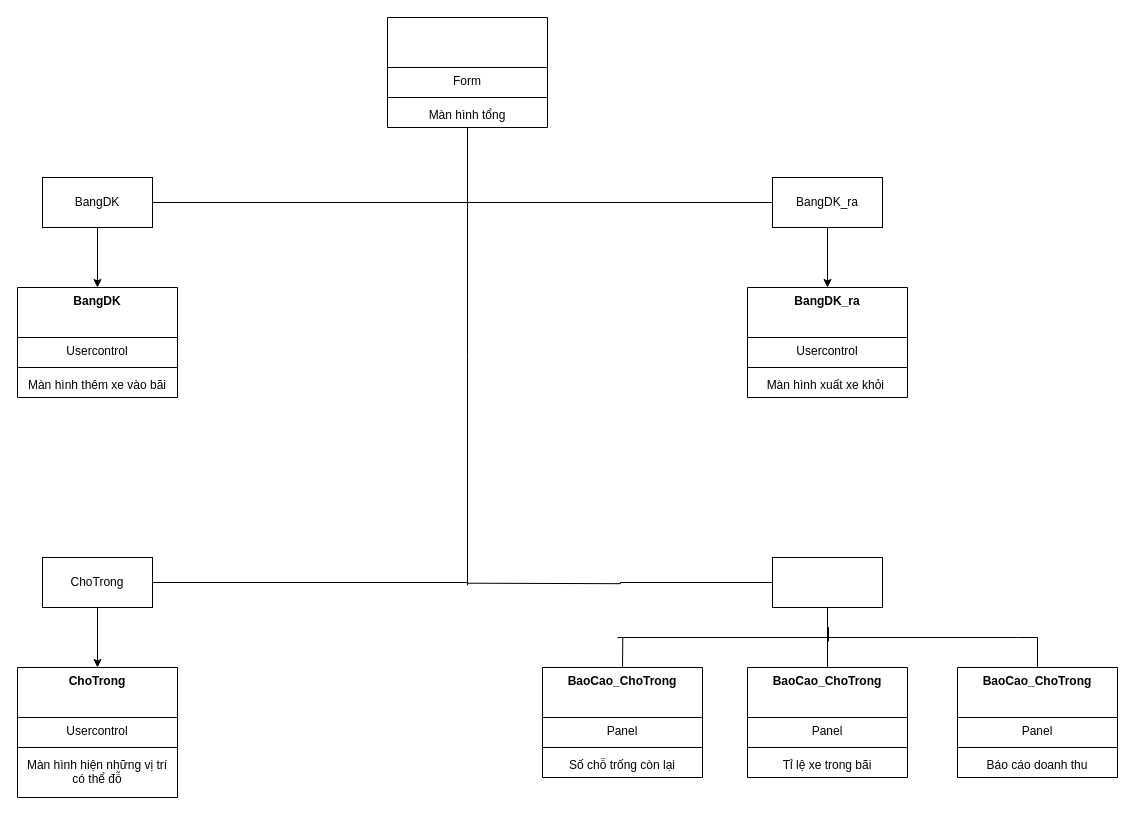
Image size: 1135x818. Some labels were removed from this diagram. Each missing label, with the box of its shape:
BaoCao: (772, 556, 882, 608)
form1 (Mainform): (386, 16, 548, 128)
